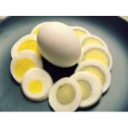begg: (38, 24, 82, 66), (21, 68, 51, 99)
